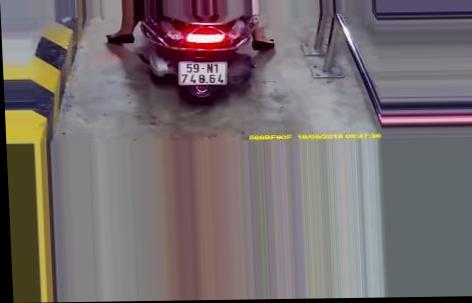License_Plate: (175, 59, 231, 89)
